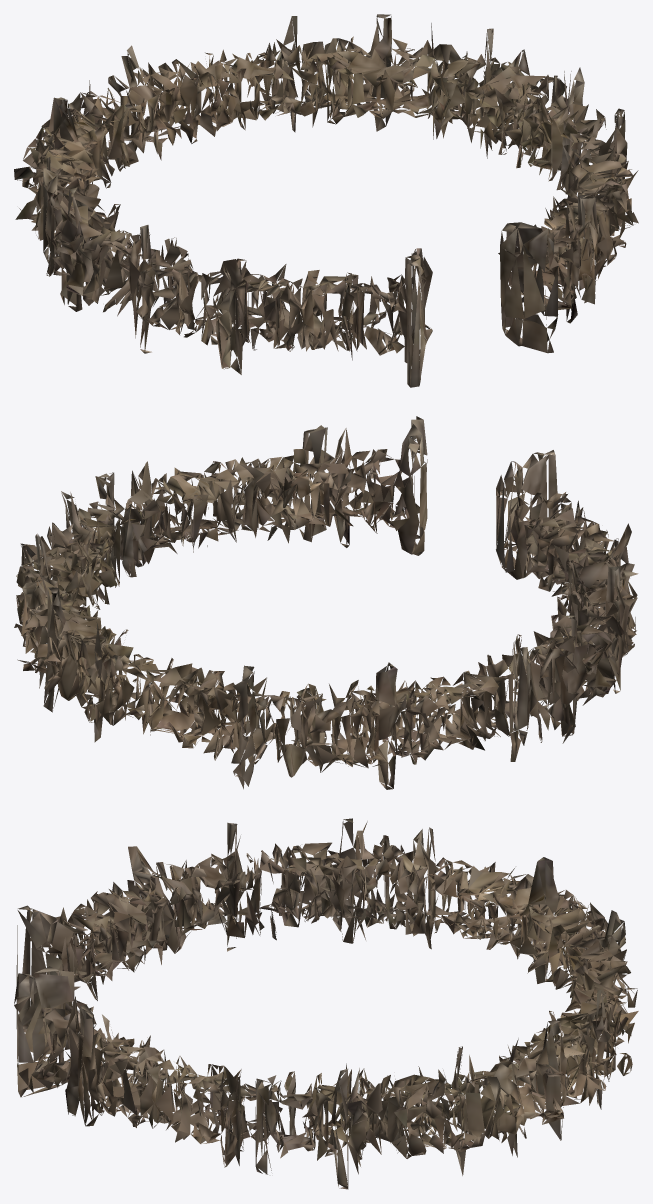
The model's file is palisadenring.glb.
3 renders of one model, top to bottom at view 1: azimuth 30°, elevation 25°; view 2: azimuth 150°, elevation 25°; view 3: azimuth 270°, elevation 25°, orthographic.
Size of the model in its own units: 1.98 by 0.4565 by 1.96.
1 material, 1 textured.
